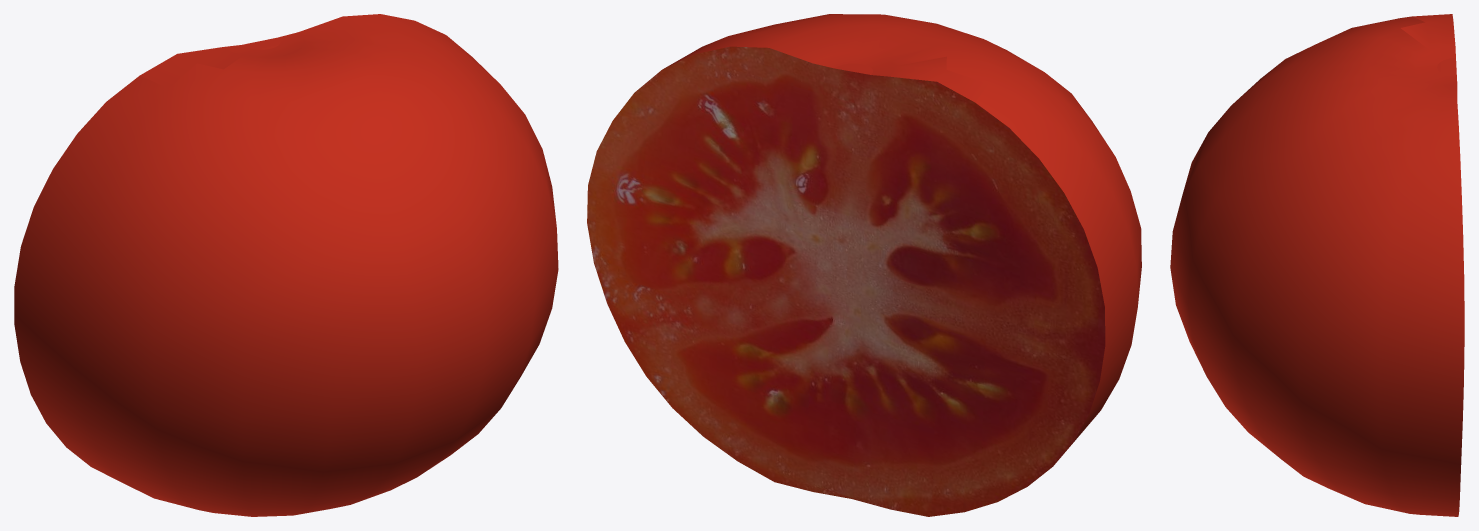
The model's file is TomatoHalf.fbx.
3 views of the same model, side by side, from view 1: azimuth 30°, elevation 25°; view 2: azimuth 150°, elevation 25°; view 3: azimuth 270°, elevation 25° (orthographic). The views are drawn at different scales.
Visible parts, largest first — view 1: pSphere1; view 2: pSphere1; view 3: pSphere1.
Boxes of the visible parts, x1,y1,x2,y2 form: pSphere1: (14,14,558,516); pSphere1: (587,14,1141,516); pSphere1: (1170,14,1464,516).
Bounding box in the file's own units: 29.1 × 24.02 × 15.31.
